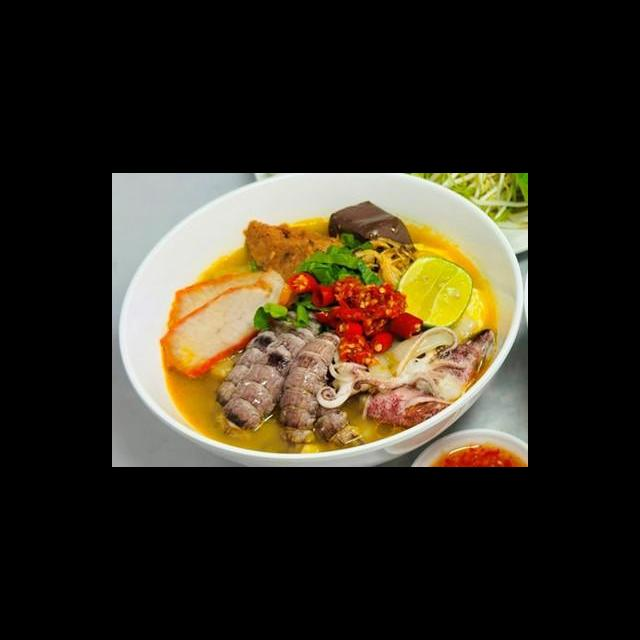muc: (314, 324, 472, 412), (410, 326, 500, 404), (354, 383, 455, 432)
tom tit: (214, 309, 328, 442), (213, 308, 319, 410), (273, 326, 346, 455)
